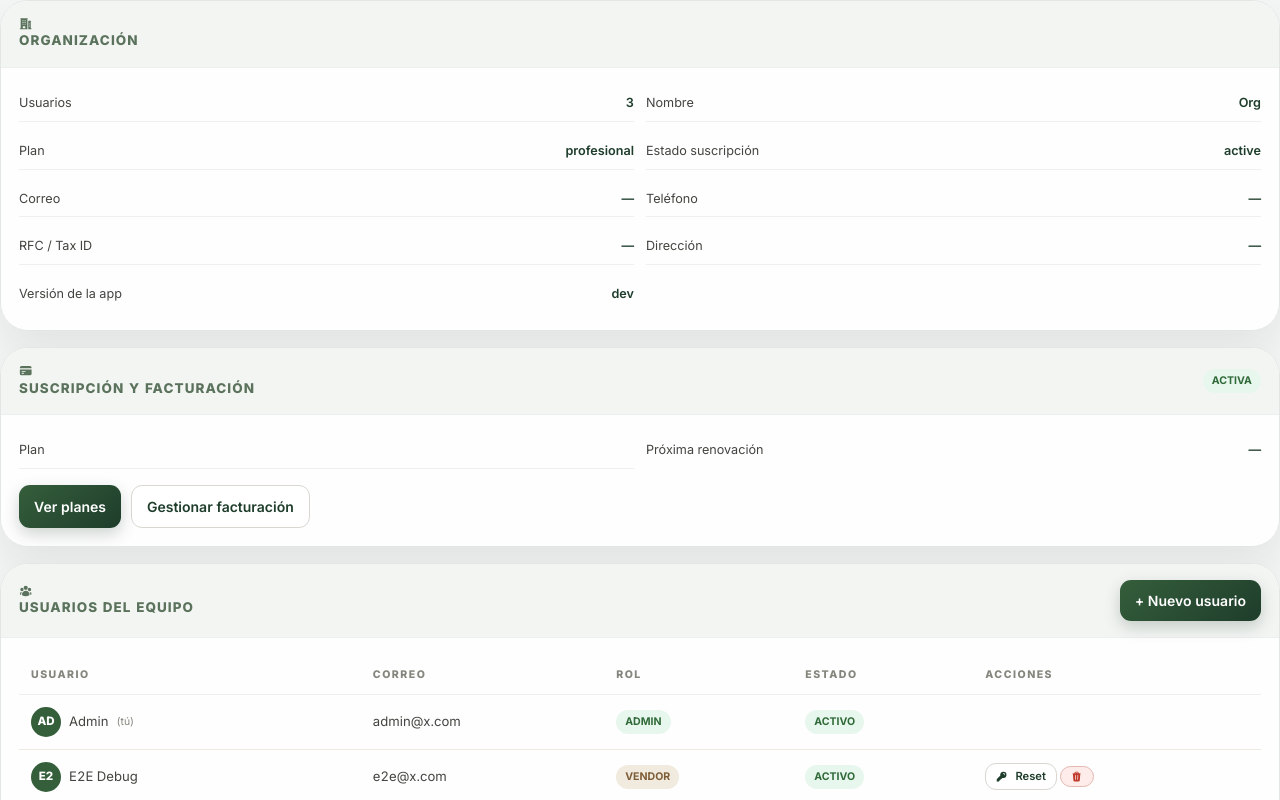
Baja de un usuario › no ofrece a quien no tiene acceso a Lands cuando se mueven contratos o lotes
This screenshot has width=1280, height=800.
Check: the text "E2E Debug" is shown, box [69,768,138,784]
Click the button named "Eliminar E2E Debug" at {"x": 1077, "y": 777}, box [1060,766,1094,787]
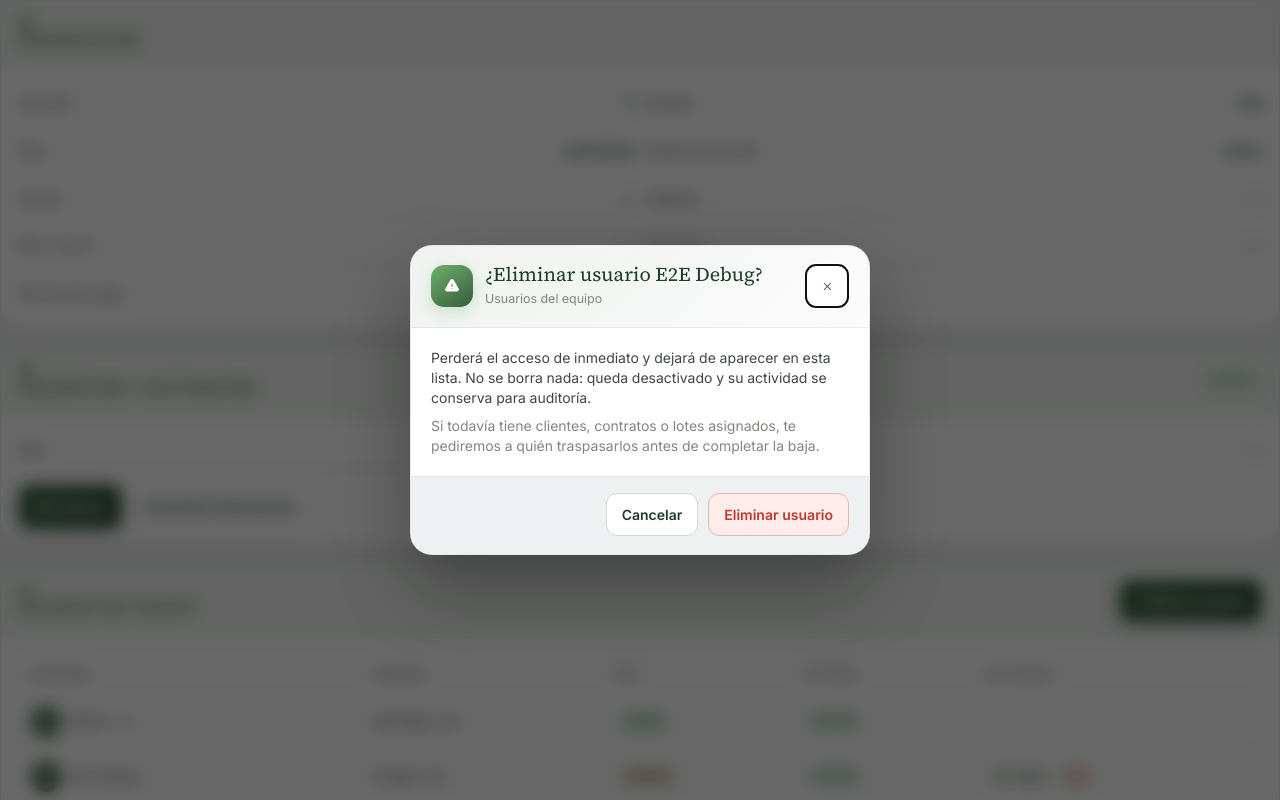
Click the button "Eliminar usuario" at {"x": 779, "y": 514}, box [708,493,849,536]
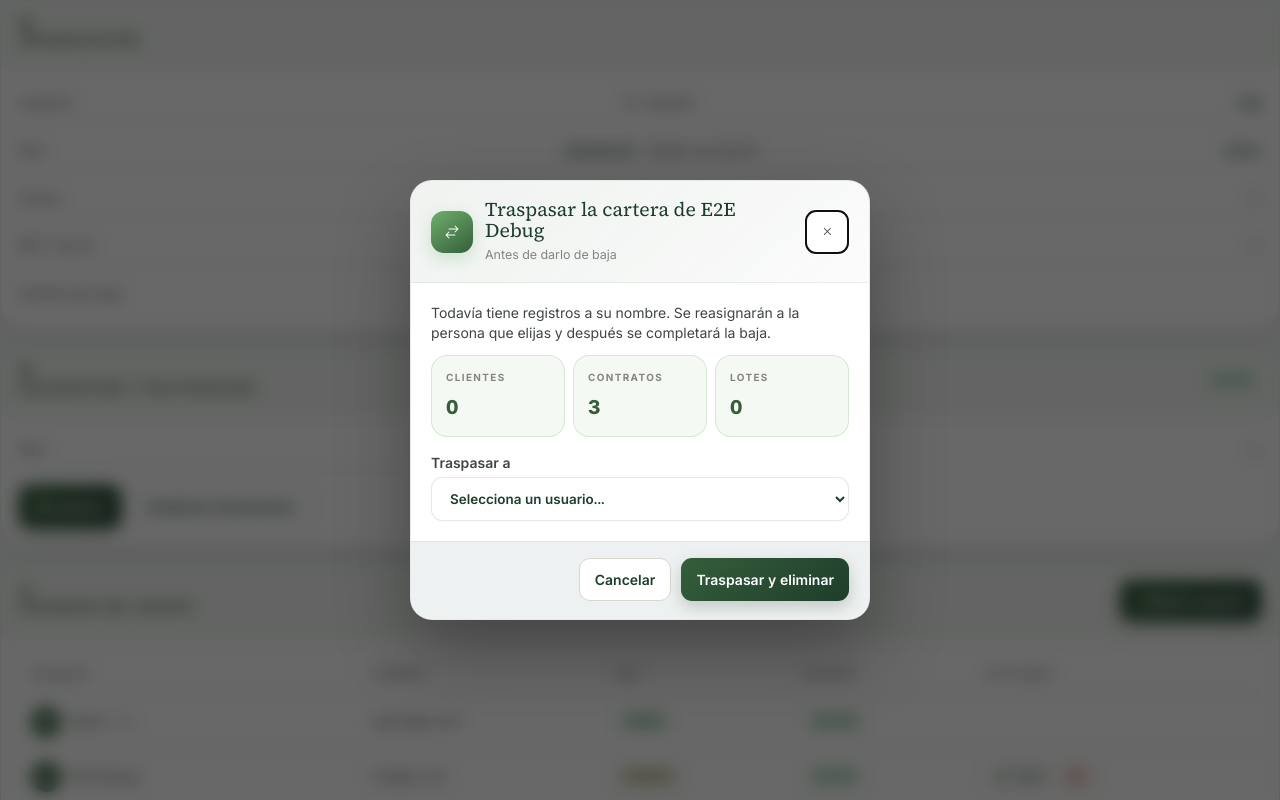
Check: the text "Traspasar la cartera de E2E Debug" is shown, box [485,196,736,244]
